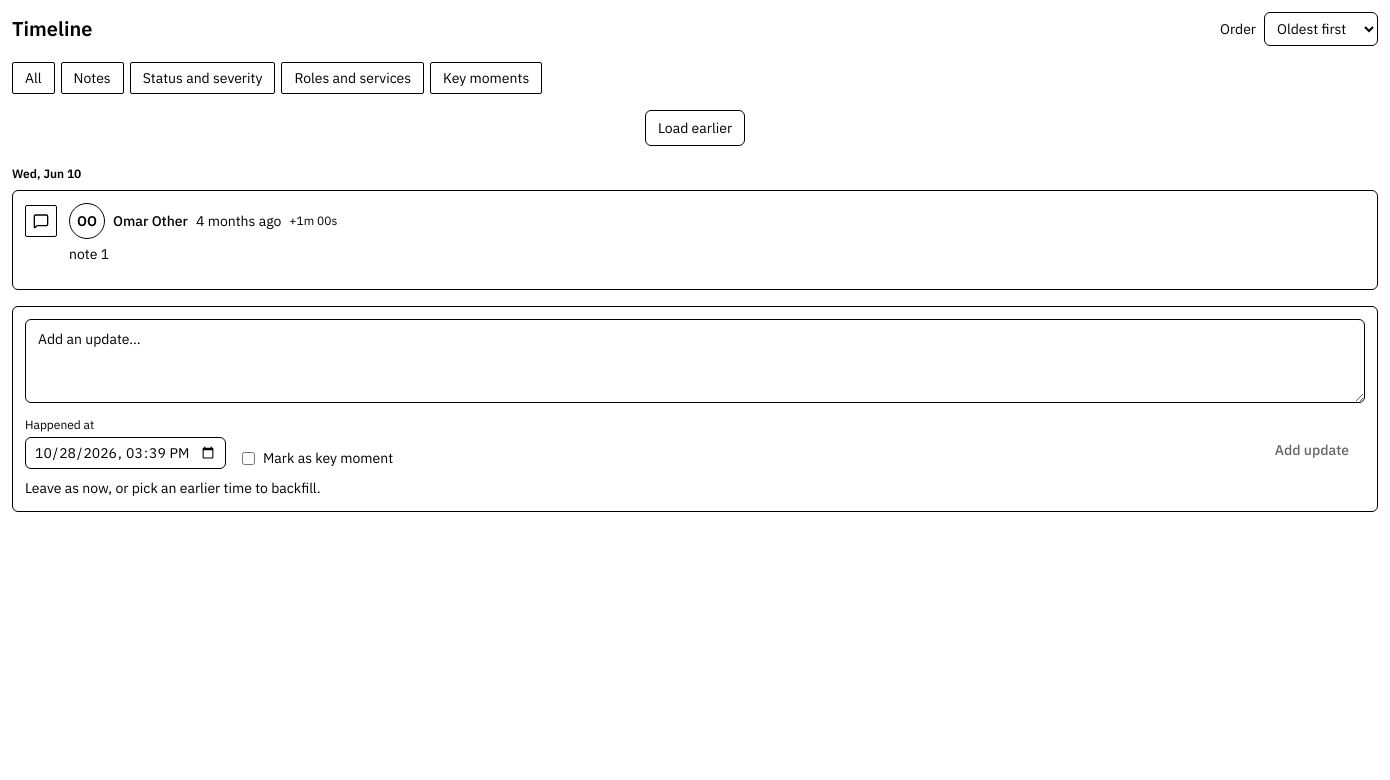
Test: long timelines › tells you when loading fails and keeps the button to try again
Step 1. Click the button "Load earlier" → [695, 128], box [645,110,745,146]
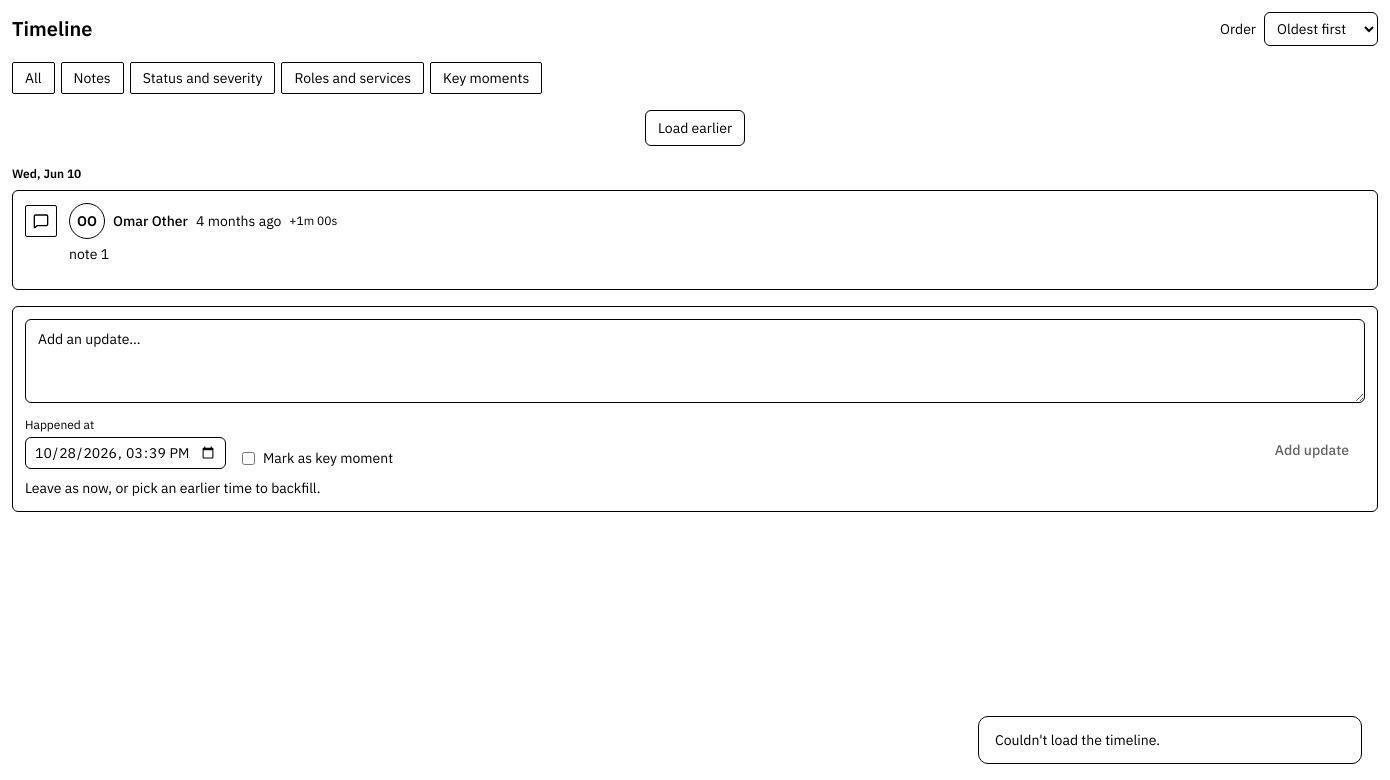
Expected: the message reads "Couldn't load the timeline.", [995,731,1160,749]
